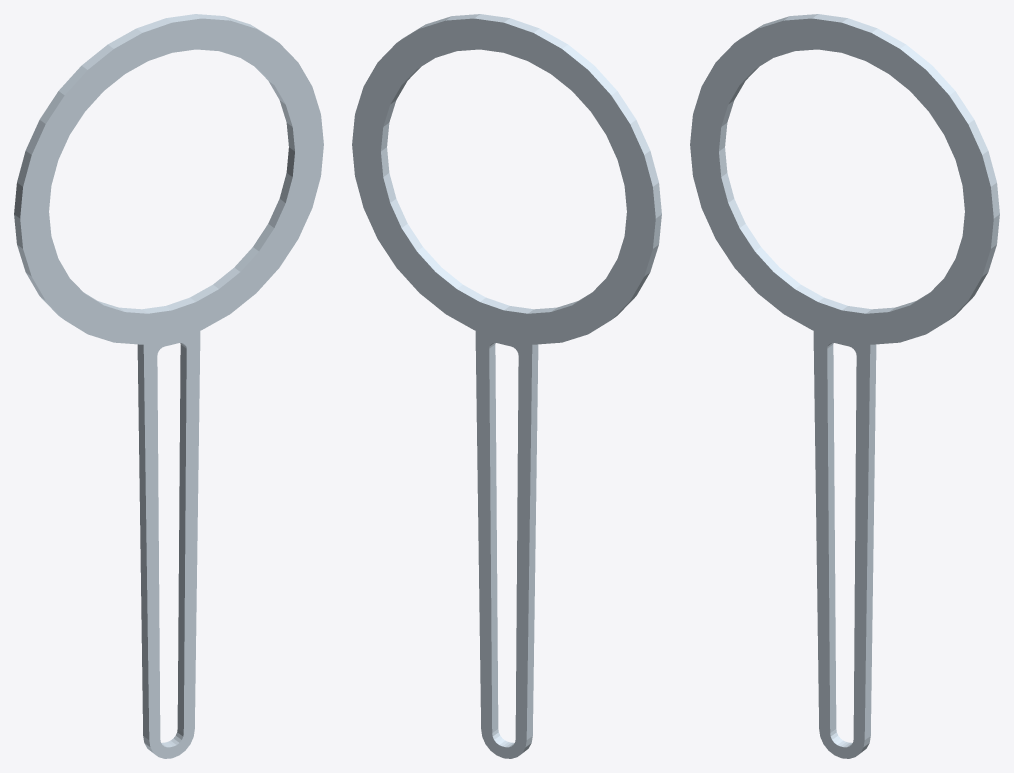
The model's file is Pin_3D_Icon.fbx.
3 renders of one model, left to right at view 1: azimuth 30°, elevation 25°; view 2: azimuth 150°, elevation 25°; view 3: azimuth 330°, elevation 25°, orthographic.
Parts seen in each view (by area): view 1: Pin_3D_Icon; view 2: Pin_3D_Icon; view 3: Pin_3D_Icon.
Boxes of the visible parts, x1,y1,x2,y2 form: Pin_3D_Icon: (14, 14, 323, 758); Pin_3D_Icon: (352, 14, 661, 758); Pin_3D_Icon: (690, 14, 999, 758).
Bounding box in the file's own units: 54.91 × 127 × 1.93.
